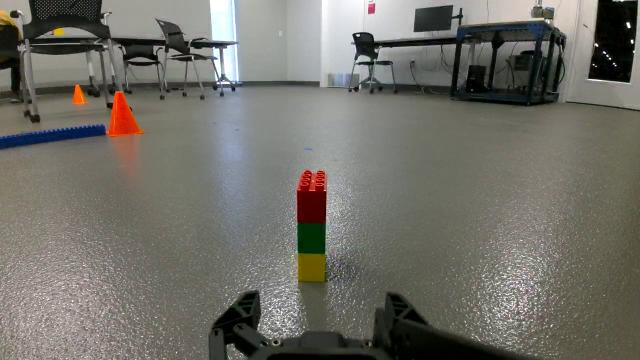lego: (262, 150, 360, 298)
